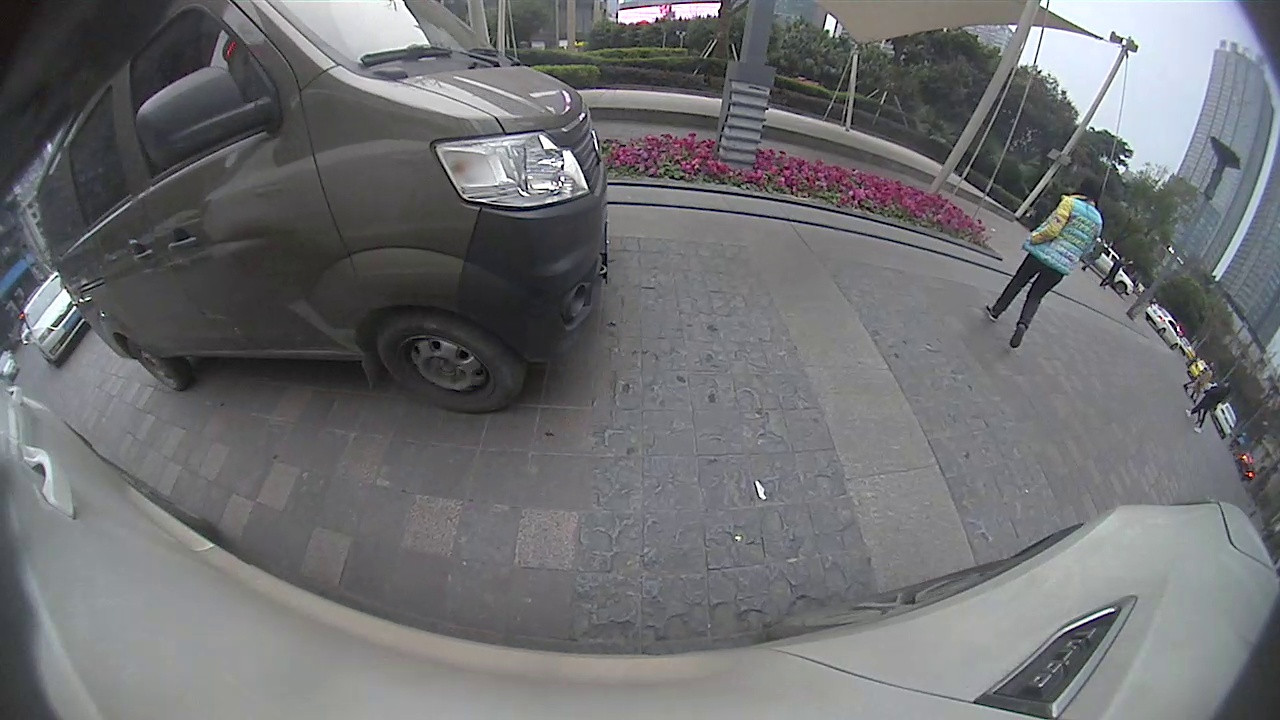car: (35, 1, 610, 416), (21, 271, 84, 366)
front: (378, 314, 518, 416)
person: (1007, 170, 1104, 350)
rear: (122, 337, 182, 390)
